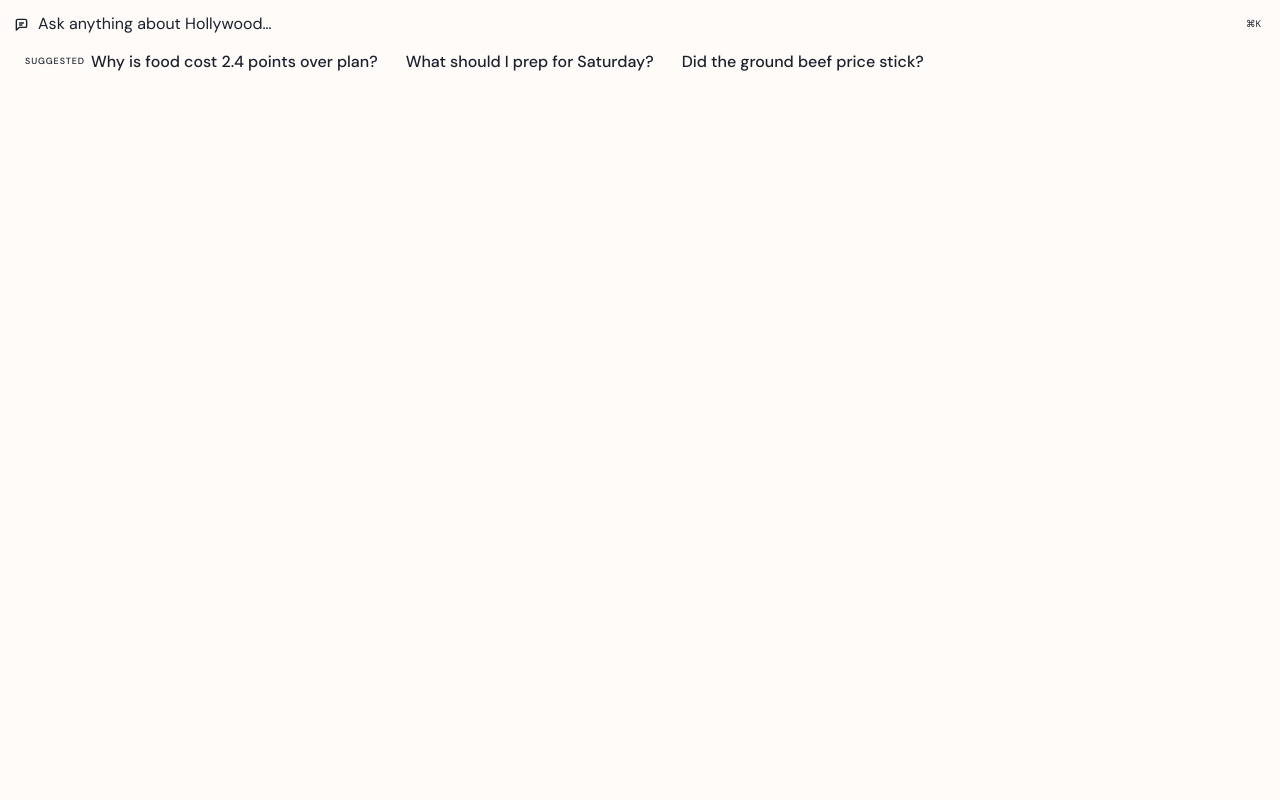
Scenario: AskBar + AskSurface — one surface, not two › a suggestion pre-fills the same surface with that question
Click the button with class "sug" that starts with "Did the ground beef price stick?" at (803, 62), box [671, 45, 935, 79]
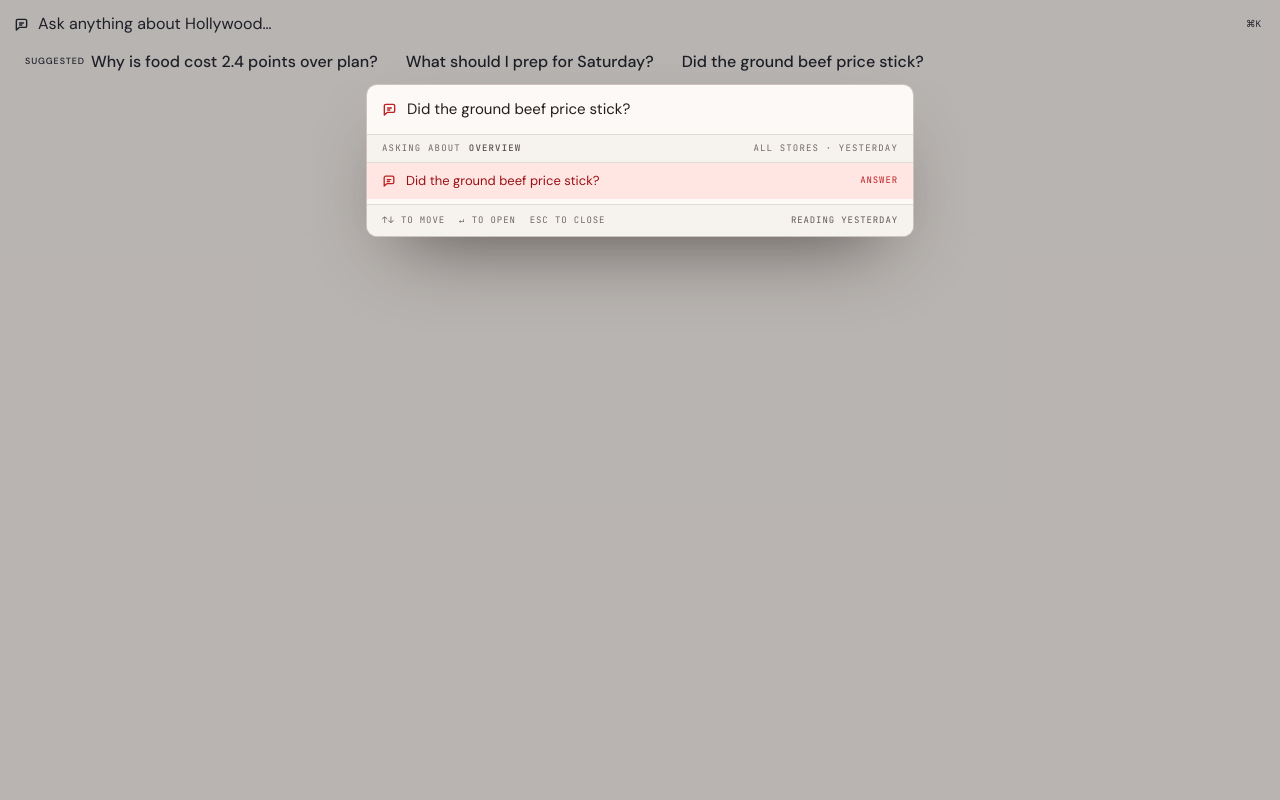
Now the field holds "Did the ground beef price stick?", box [407, 98, 898, 120]
Now the number of dialogs is 1, box [366, 84, 914, 237]
